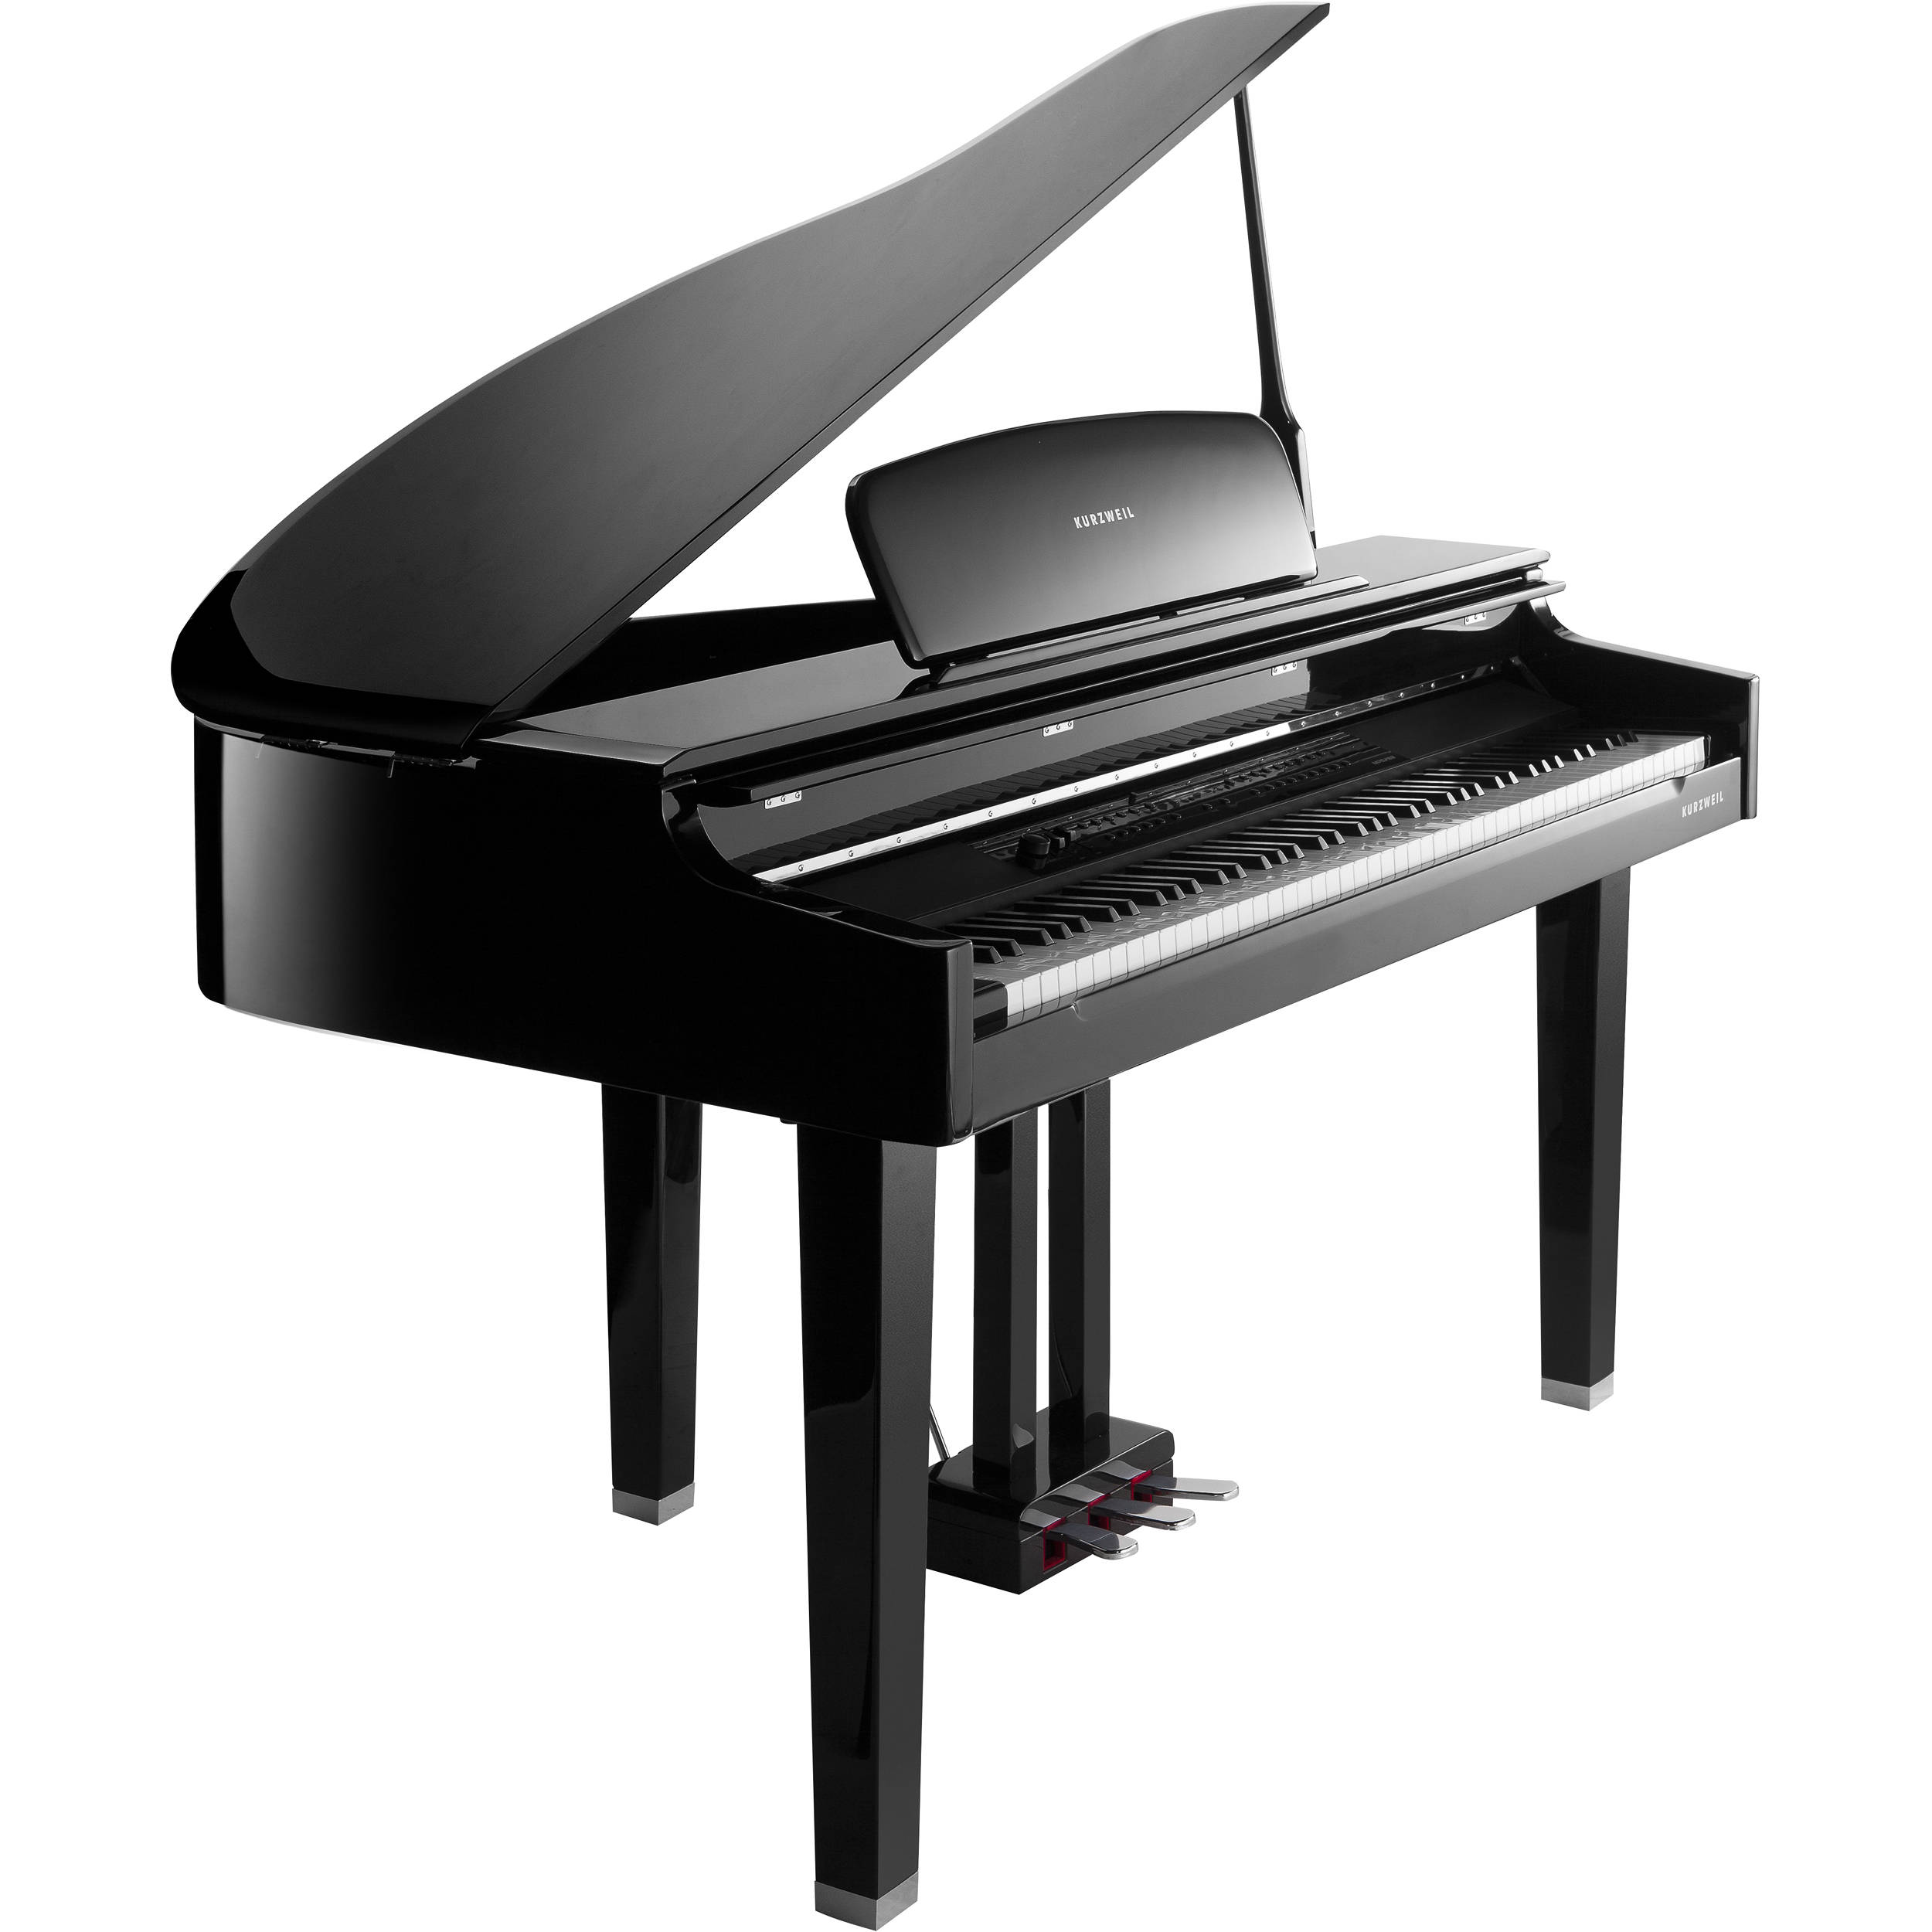GrandPiano: (237, 331, 1881, 1088)
